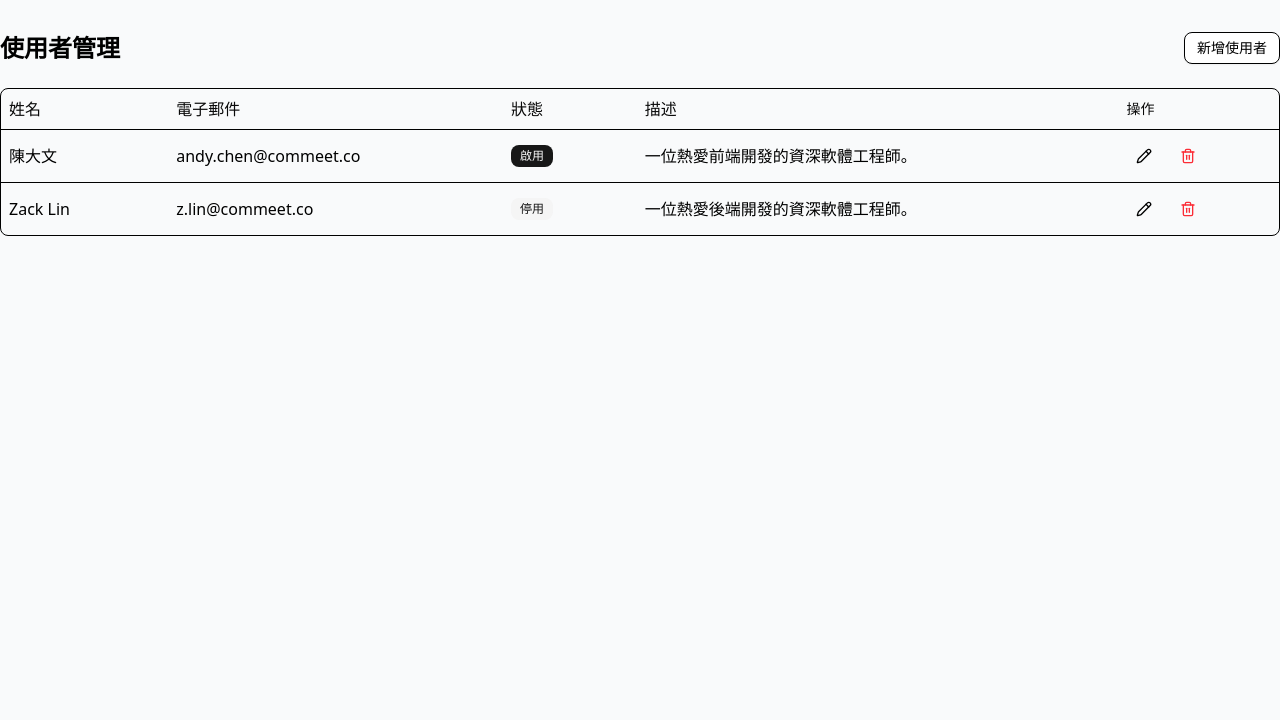
Scenario: UserTable › can delete a user
This screenshot has width=1280, height=720.
Note: Open delete dialog
Click the button with test id "delete-user-\\d+-button" at point(1188, 156), box [1170,138,1206,174]
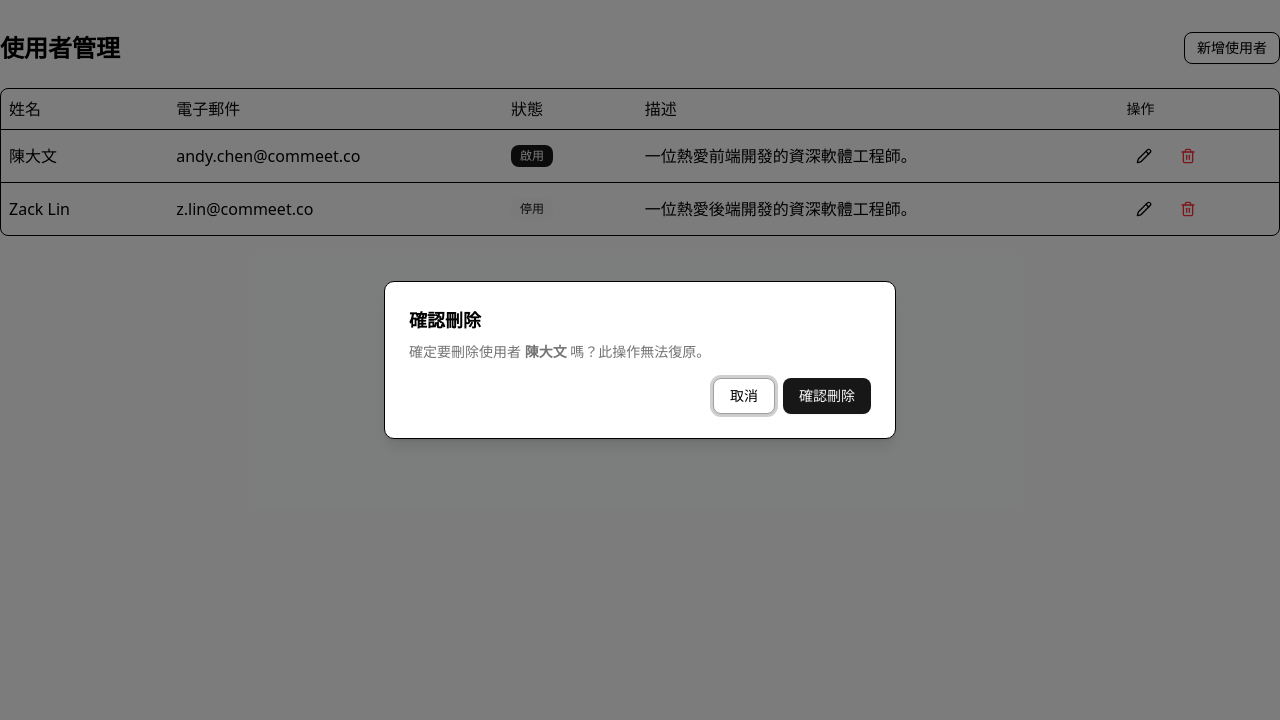
Note: Confirm deletion
Click the button with test id "confirm-delete-button" at point(827, 396), box [783,378,871,414]
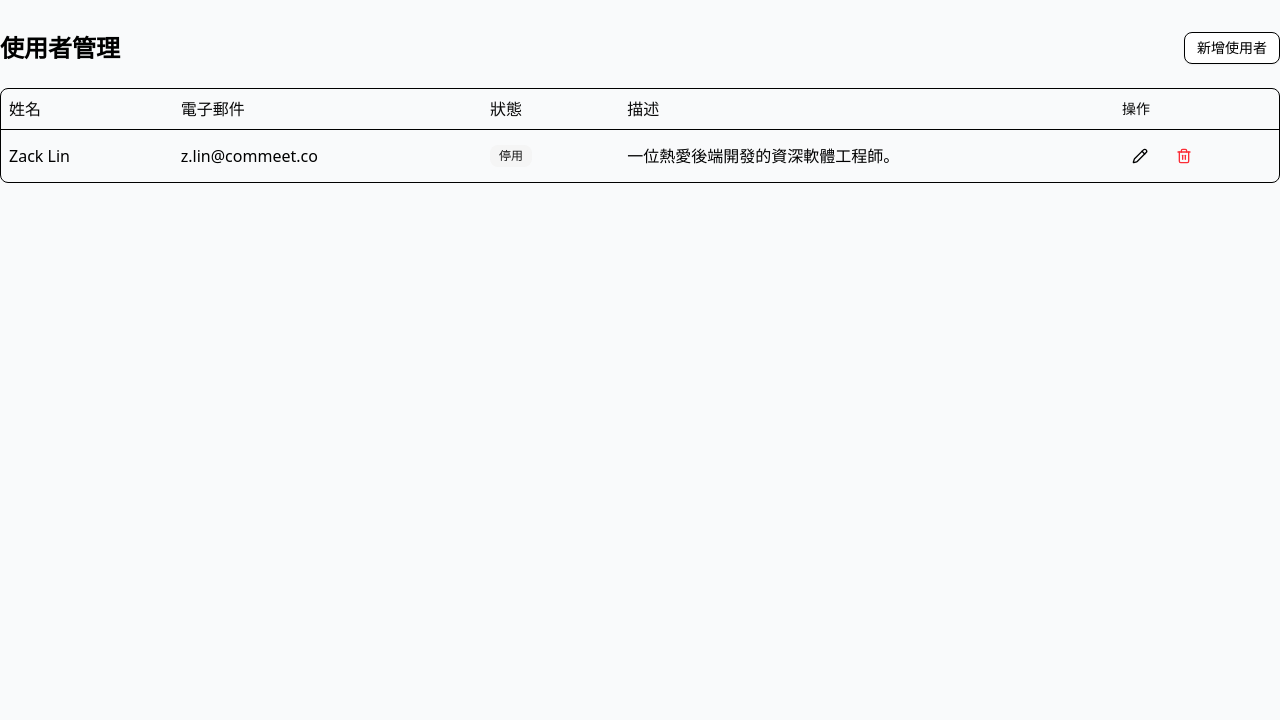
Result: the text "陳⼤⽂" is gone
